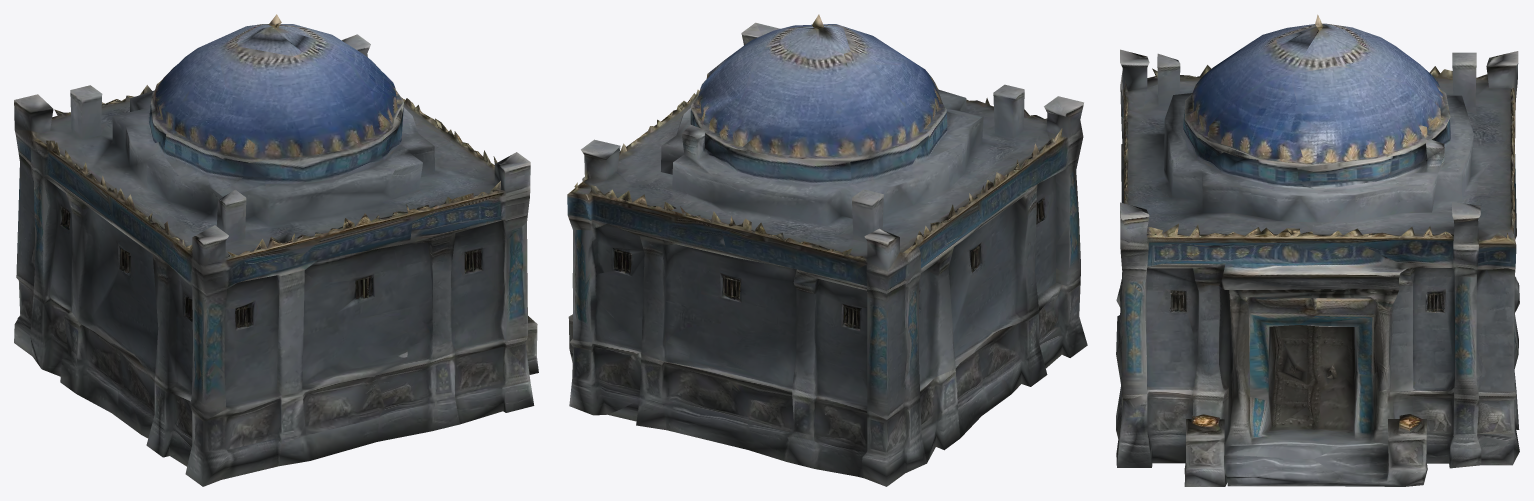
File: treasury_0.glb
The picture shows the model from 3 angles, left to right: view 1: azimuth 30°, elevation 25°; view 2: azimuth 150°, elevation 25°; view 3: azimuth 270°, elevation 25°; orthographic projection. The views are drawn at different scales.
Parts seen in each view (by area): view 1: tripo_node_bda4096e-9ad7-4dcf-a275-aa3ea30ba42e; view 2: tripo_node_bda4096e-9ad7-4dcf-a275-aa3ea30ba42e; view 3: tripo_node_bda4096e-9ad7-4dcf-a275-aa3ea30ba42e.
Part boxes in pixels (bbox=[...]): tripo_node_bda4096e-9ad7-4dcf-a275-aa3ea30ba42e: bbox=[14, 14, 538, 486]; tripo_node_bda4096e-9ad7-4dcf-a275-aa3ea30ba42e: bbox=[567, 14, 1087, 486]; tripo_node_bda4096e-9ad7-4dcf-a275-aa3ea30ba42e: bbox=[1116, 14, 1519, 486].
Size of the model in its own units: 0.9757 by 0.909 by 0.892.
Materials: 1 (1 with a texture image).
